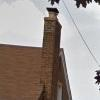Chimney: (38, 5, 60, 76)
